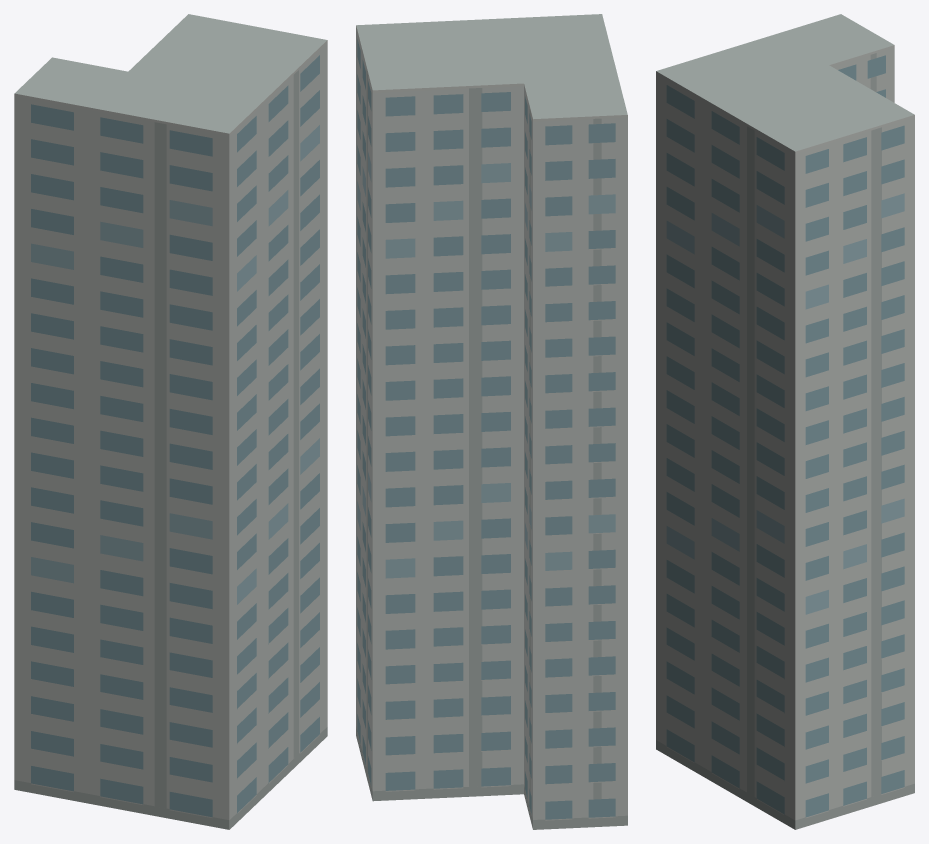
File: residential-3f14b232-aea9-4ed9-9913-84c3e60709b3.glb
The picture shows the model from 3 angles, left to right: view 1: azimuth 30°, elevation 25°; view 2: azimuth 150°, elevation 25°; view 3: azimuth 270°, elevation 25°; orthographic projection. The views are drawn at different scales.
Visible parts, largest first — view 1: residential-3f14b232-aea9-4ed9-9913-84c3e60709b3.tmp; view 2: residential-3f14b232-aea9-4ed9-9913-84c3e60709b3.tmp; view 3: residential-3f14b232-aea9-4ed9-9913-84c3e60709b3.tmp.
Part boxes in pixels (x1,y1,x2,y2): residential-3f14b232-aea9-4ed9-9913-84c3e60709b3.tmp: [14, 14, 327, 829]; residential-3f14b232-aea9-4ed9-9913-84c3e60709b3.tmp: [356, 14, 627, 829]; residential-3f14b232-aea9-4ed9-9913-84c3e60709b3.tmp: [656, 14, 914, 829].
Bounding box in the file's own units: 30.48 × 70 × 24.22.
